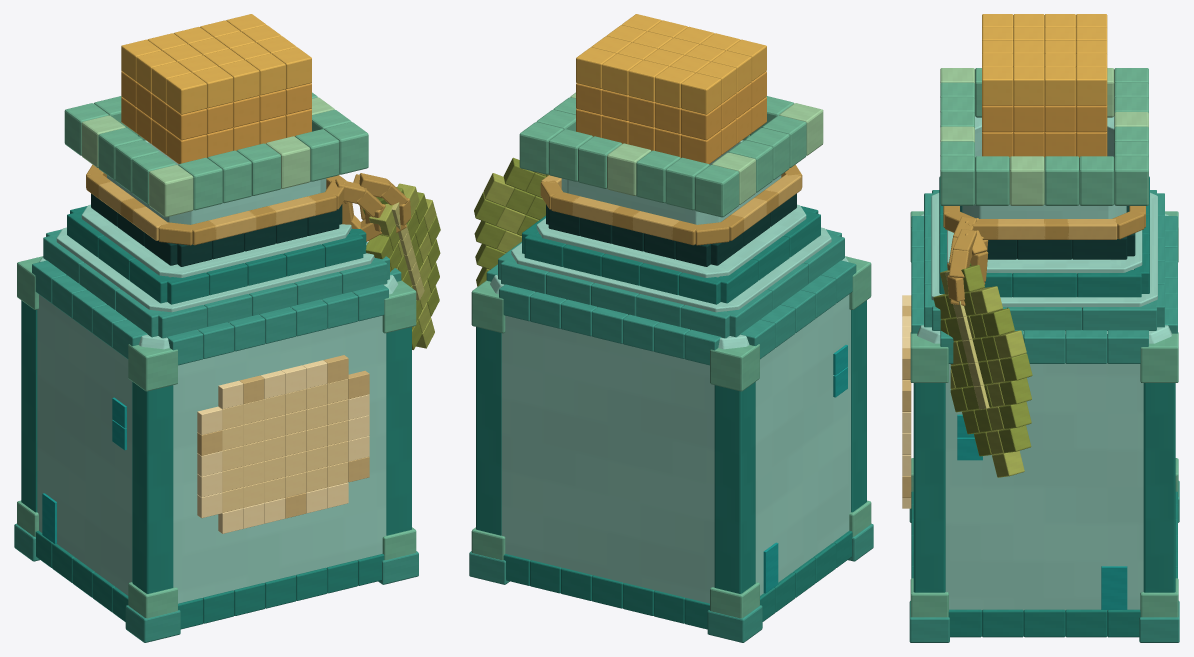
Rendered from SM_Blender_MossTonic.fbx.
3 renders of one model, left to right at view 1: azimuth 30°, elevation 25°; view 2: azimuth 150°, elevation 25°; view 3: azimuth 270°, elevation 25°, orthographic. The views are drawn at different scales.
Parts seen in each view (by area): view 1: SM_Blender_MossTonic; view 2: SM_Blender_MossTonic; view 3: SM_Blender_MossTonic.
Part boxes in pixels (x1,y1,x2,y2): SM_Blender_MossTonic: (14,14,440,642); SM_Blender_MossTonic: (469,14,873,642); SM_Blender_MossTonic: (902,14,1179,642).
Size of the model in its own units: 59.62 by 39.85 by 83.6.
